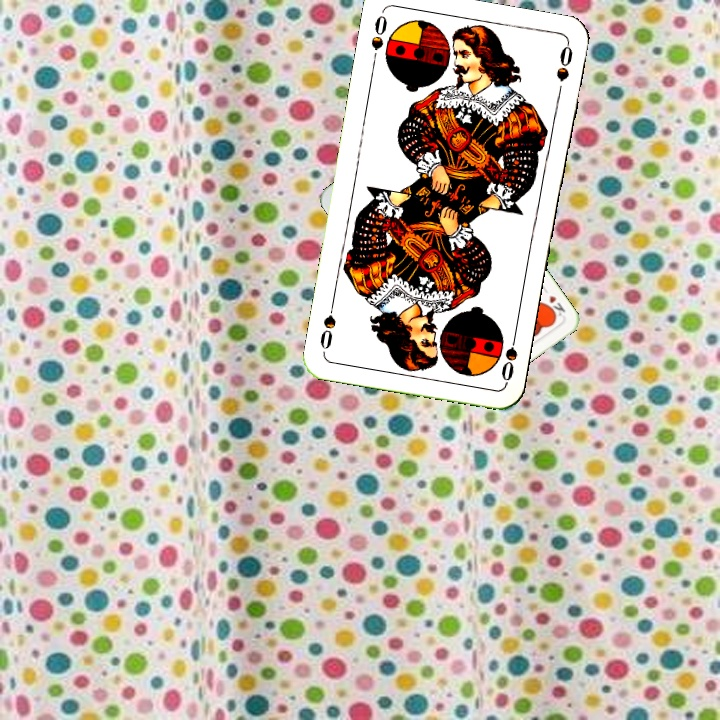HK: (542, 291, 568, 320)
SO: (497, 326, 520, 385), (367, 9, 390, 68)
